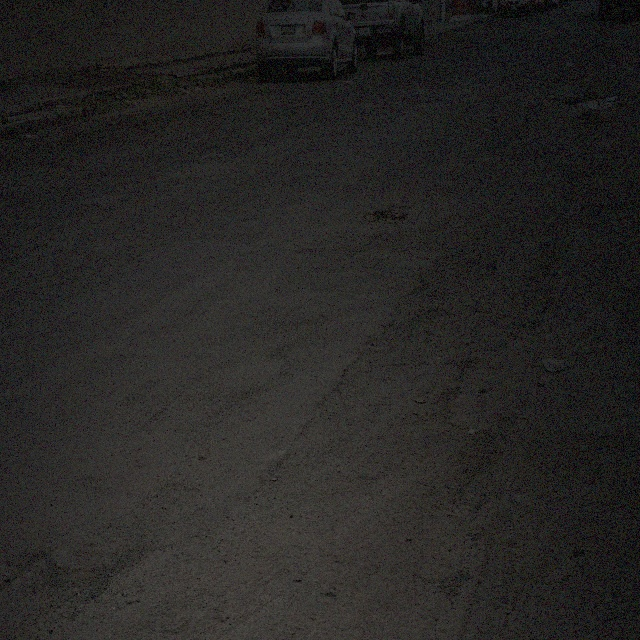pothole: (573, 91, 619, 110), (362, 208, 407, 226)
